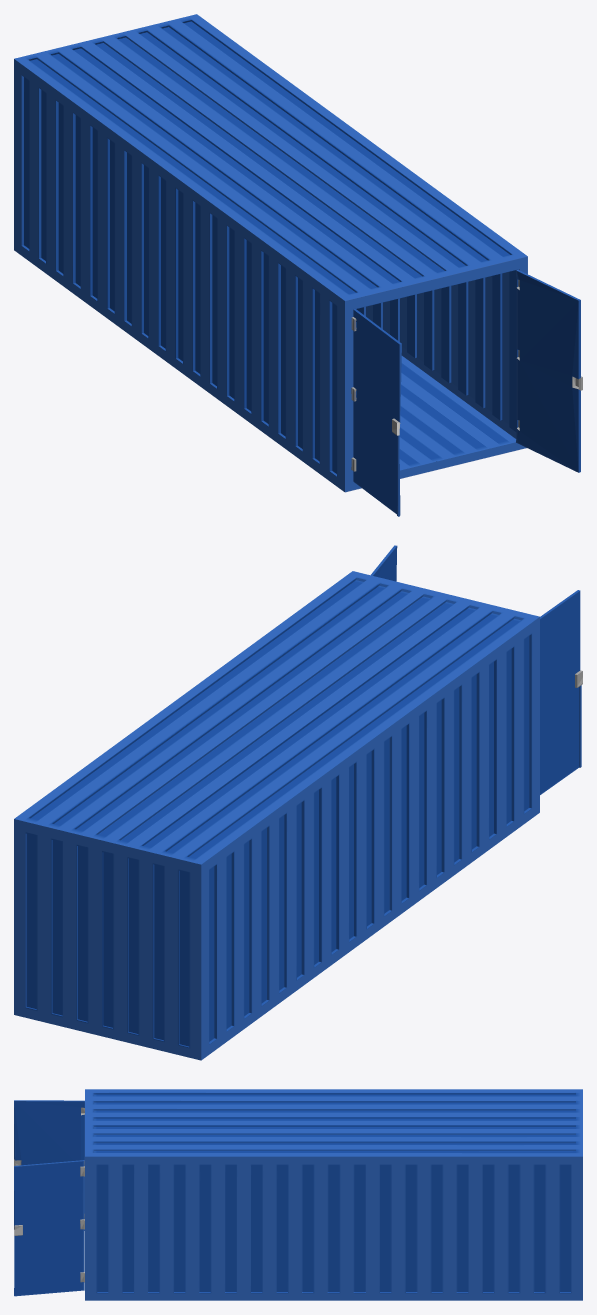
Rendered from otvoren kontejner.fbx.
3 renders of one model, top to bottom at view 1: azimuth 30°, elevation 25°; view 2: azimuth 150°, elevation 25°; view 3: azimuth 270°, elevation 25°, orthographic. The views are drawn at different scales.
Visible parts, largest first — view 1: Cube.005, Cube.007, Cube.006; view 2: Cube.005, Cube.006; view 3: Cube.005, Cube.007, Cube.006.
Part boxes in pixels (box(x1,y1,x2,y2)): Cube.005: box(14, 14, 527, 492); Cube.007: box(516, 270, 582, 472); Cube.006: box(352, 309, 401, 516); Cube.005: box(14, 571, 539, 1060); Cube.006: box(540, 590, 582, 794); Cube.005: box(84, 1089, 582, 1300); Cube.007: box(14, 1160, 84, 1296); Cube.006: box(14, 1100, 84, 1230).
Size of the model in its own units: 240 by 229 by 821.
1 material, 1 textured.
